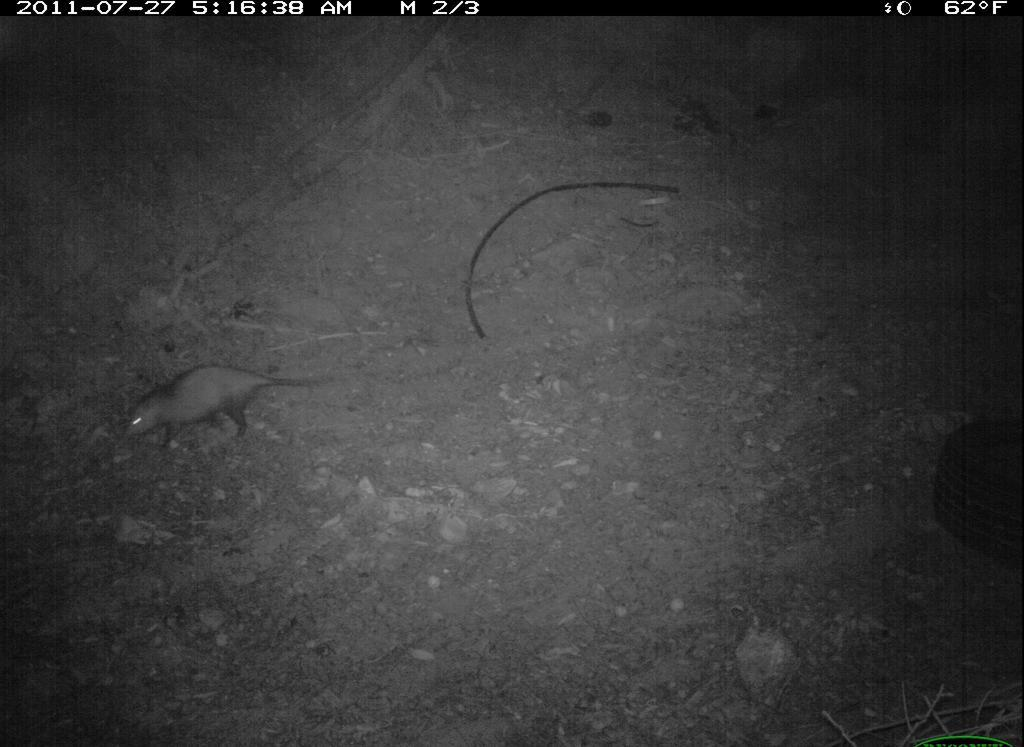opossum: (108, 360, 345, 478)
